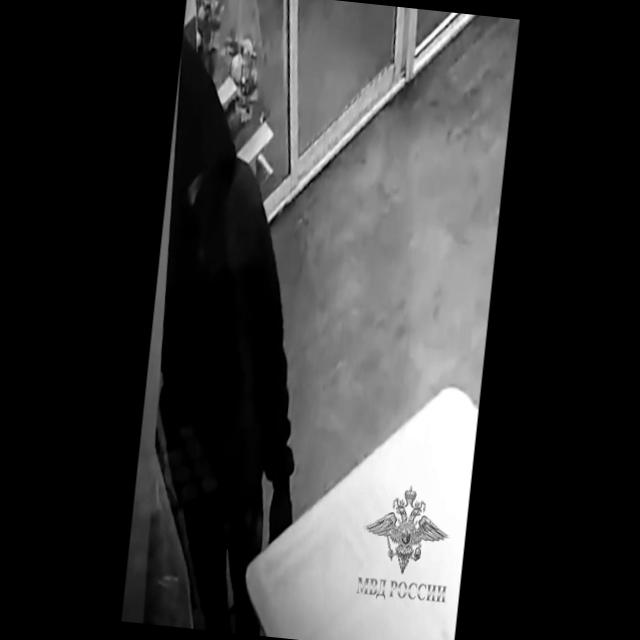gun: (160, 502, 207, 618)
person with a gun: (124, 40, 338, 638)
